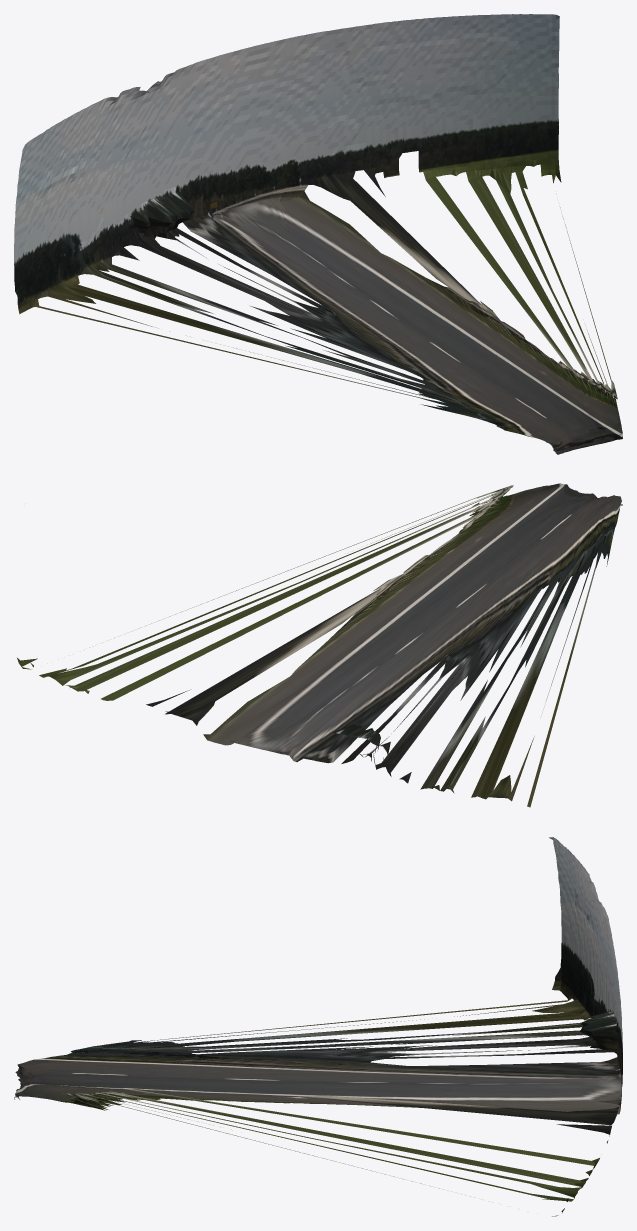
3 renders of one model, top to bottom at view 1: azimuth 30°, elevation 25°; view 2: azimuth 150°, elevation 25°; view 3: azimuth 270°, elevation 25°, orthographic. The views are drawn at different scales.
Visible parts, largest first — view 1: defaultobject; view 2: defaultobject; view 3: defaultobject.
Boxes of the visible parts, <box> form: defaultobject: <box>14,14,622,454</box>; defaultobject: <box>17,483,622,807</box>; defaultobject: <box>14,837,622,1216</box>.
Size of the model in its own units: 41.16 by 13.28 by 44.38.
1 material, 1 textured.
